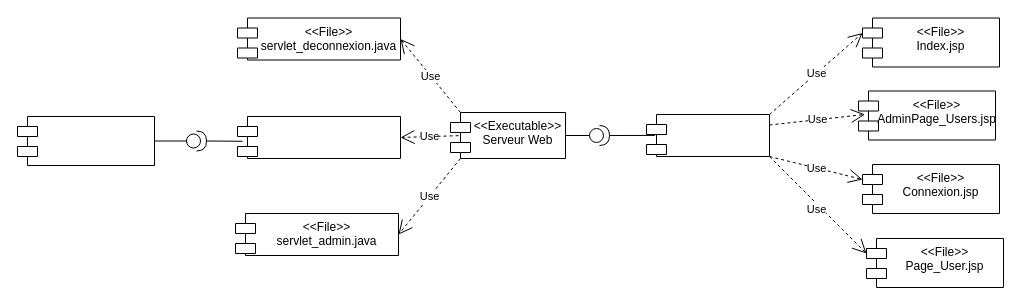
This 1021x305 diagram has some shape labels left out. The shapes that lost their labels are listed below. From the top down, each one's centre as x and y in pixels, then its label:
At point (85, 141): "<<Database>> bd.db".
At point (318, 137): "<<File>> servlet_connexion.java".
At point (708, 135): "<<Executable>> Navigateur Web".
